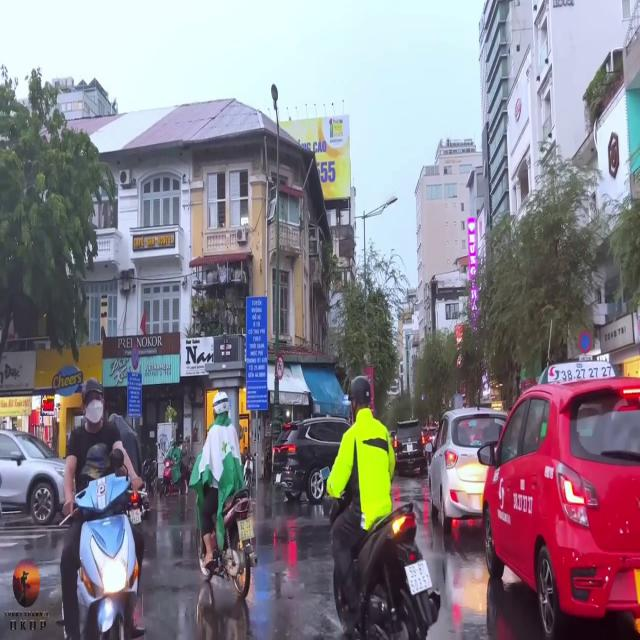bien_trang: (402, 559, 432, 592), (238, 517, 255, 540)
